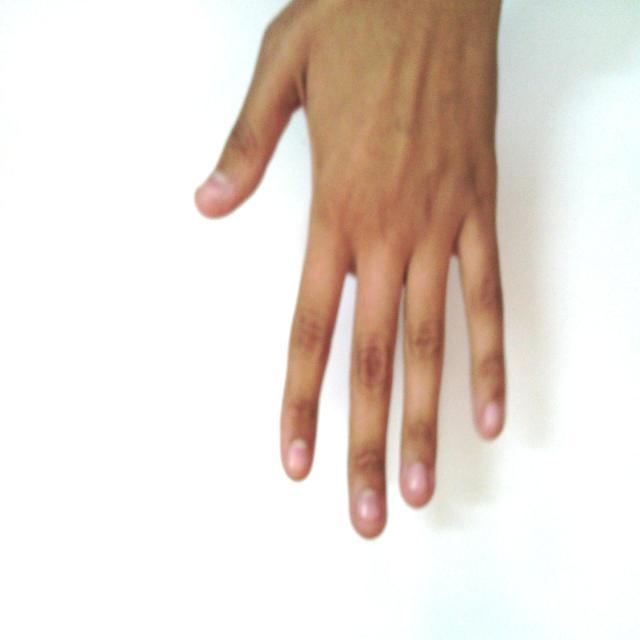Fingernail: (406, 463, 429, 496), (201, 174, 230, 200), (358, 491, 380, 522), (289, 441, 308, 473), (483, 404, 500, 432)
